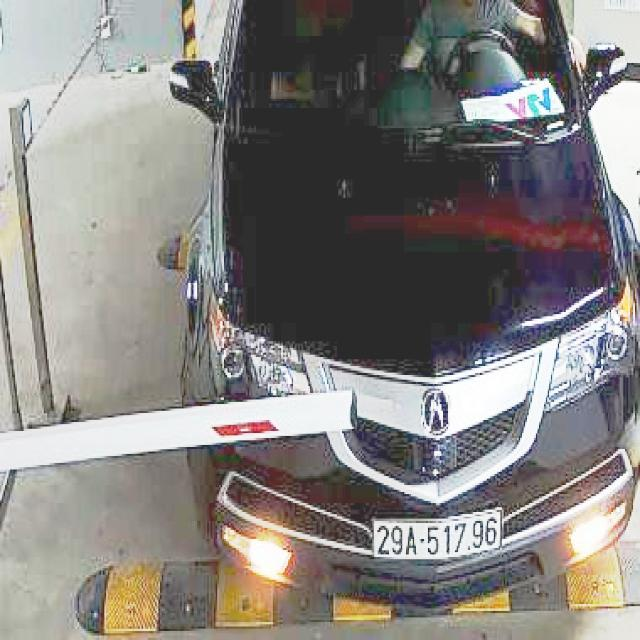license_plate: (375, 514, 501, 563)
